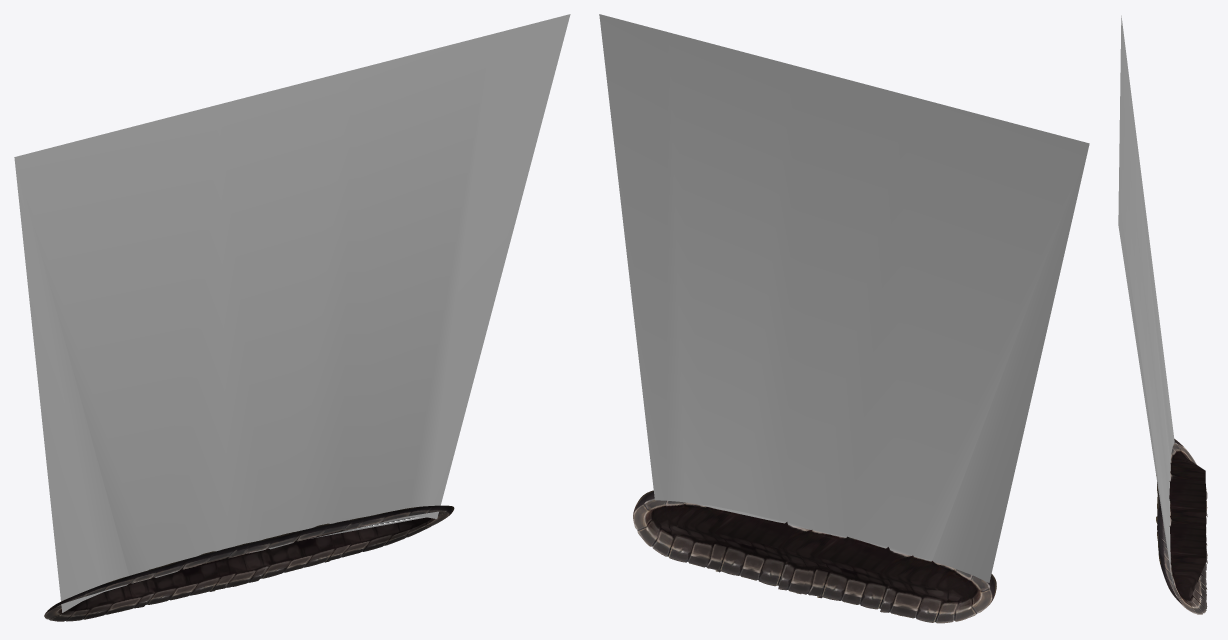
Rendered from Brick Hole.FBX.
3 renders of one model, left to right at view 1: azimuth 30°, elevation 25°; view 2: azimuth 150°, elevation 25°; view 3: azimuth 270°, elevation 25°, orthographic. The views are drawn at different scales.
Visible parts, largest first — view 1: Brick Hole Mask, Brick Hole; view 2: Brick Hole Mask, Brick Hole; view 3: Brick Hole Mask, Brick Hole.
Part boxes in pixels (box(x1,y1,x2,y2)): Brick Hole Mask: box(14, 14, 570, 612); Brick Hole: box(44, 505, 454, 621); Brick Hole Mask: box(599, 14, 1089, 582); Brick Hole: box(633, 490, 996, 623); Brick Hole Mask: box(1118, 15, 1174, 587); Brick Hole: box(1156, 439, 1207, 614).
Bounding box in the file's own units: 803 × 148 × 766.
